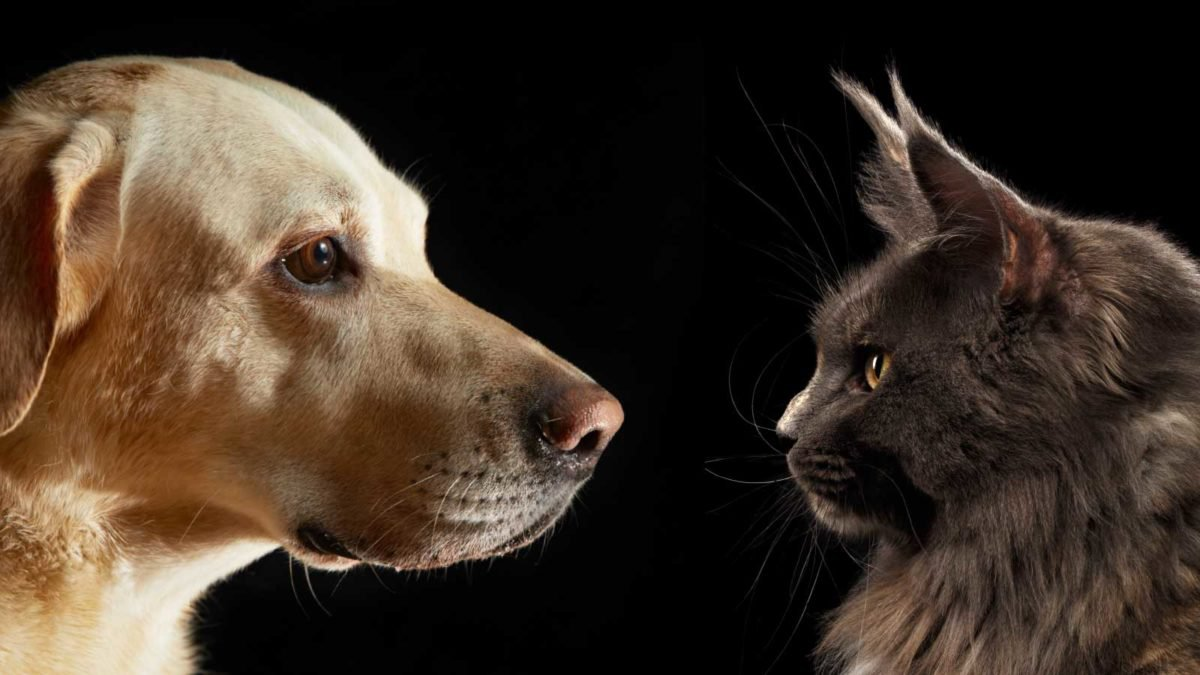cat: (739, 45, 1200, 668)
dog: (24, 34, 675, 675)
